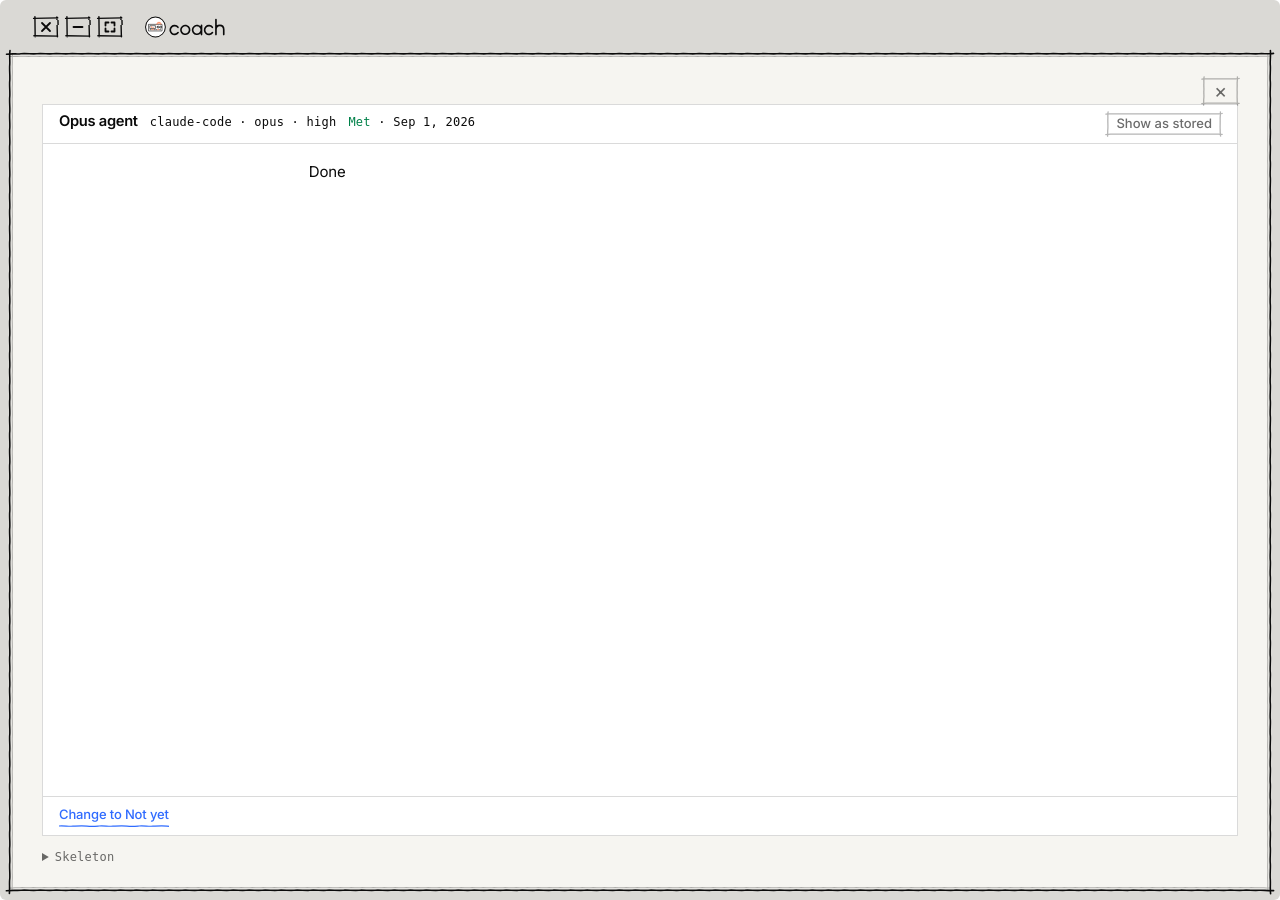
Test: ReplyView › a second run appearing while the view is open sends Close to the handoff page
Check: the heading "Opus agent" is shown, box [59,113,138,130]
Click the button named "Close" at (1220, 91), box [1203,78,1238,104]
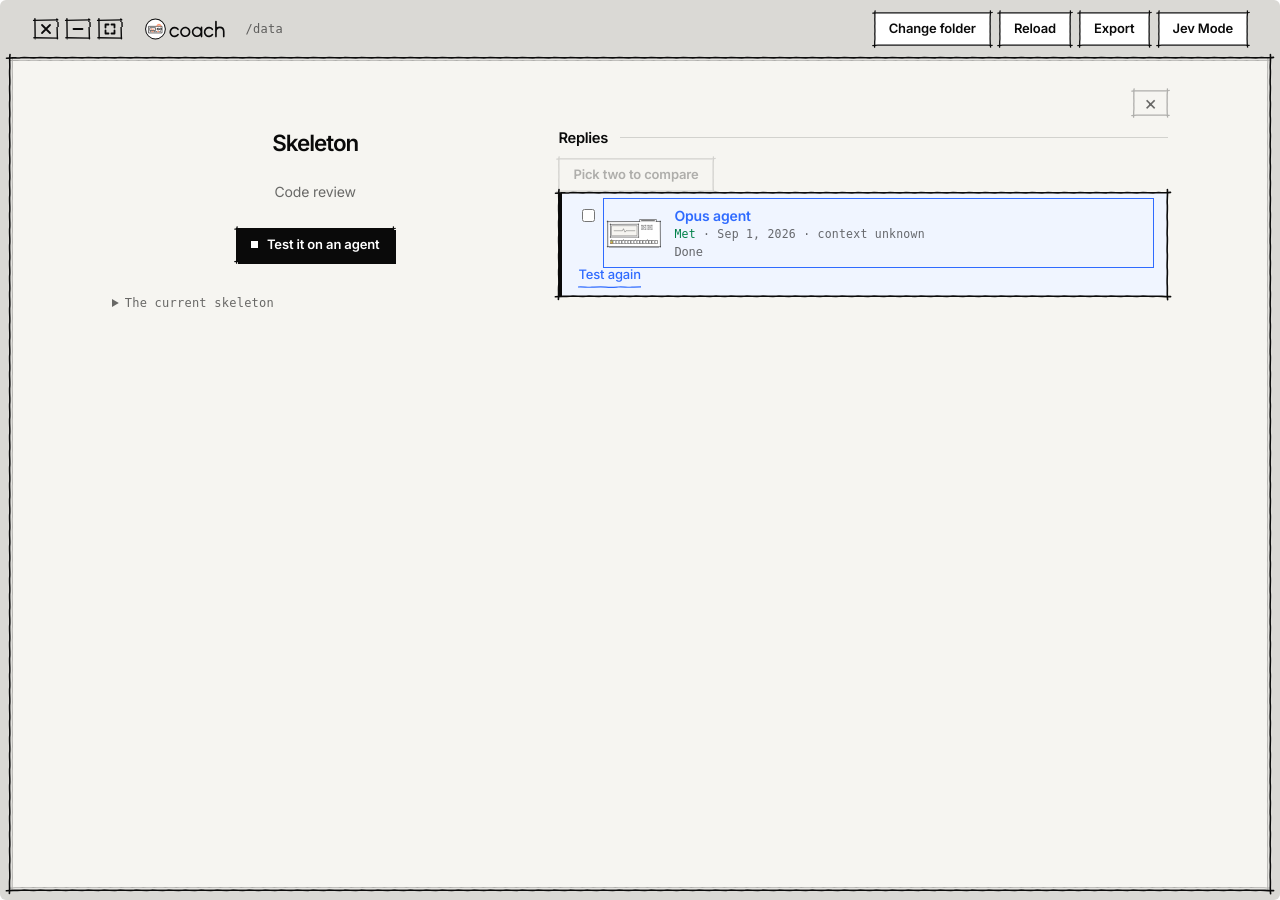
Check: the heading "Skeleton" is shown, box [272,130,358,155]
